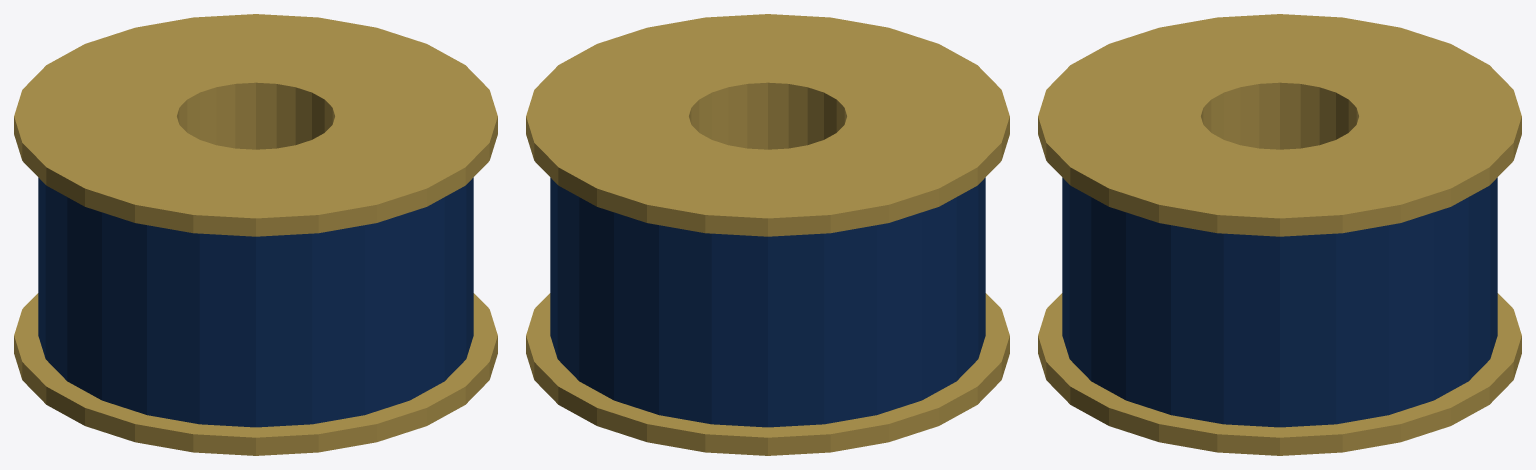
The model's file is Reel.fbx.
3 views of the same model, side by side, from view 1: azimuth 30°, elevation 25°; view 2: azimuth 150°, elevation 25°; view 3: azimuth 270°, elevation 25° (orthographic).
Parts seen in each view (by area): view 1: Reel; view 2: Reel; view 3: Reel.
Boxes of the visible parts, left/top/right/bottom form: Reel: left=14, top=14, right=497, bottom=455; Reel: left=526, top=14, right=1009, bottom=455; Reel: left=1038, top=14, right=1521, bottom=455.
Bounding box in the file's own units: 2.4 × 1.3 × 2.4.
